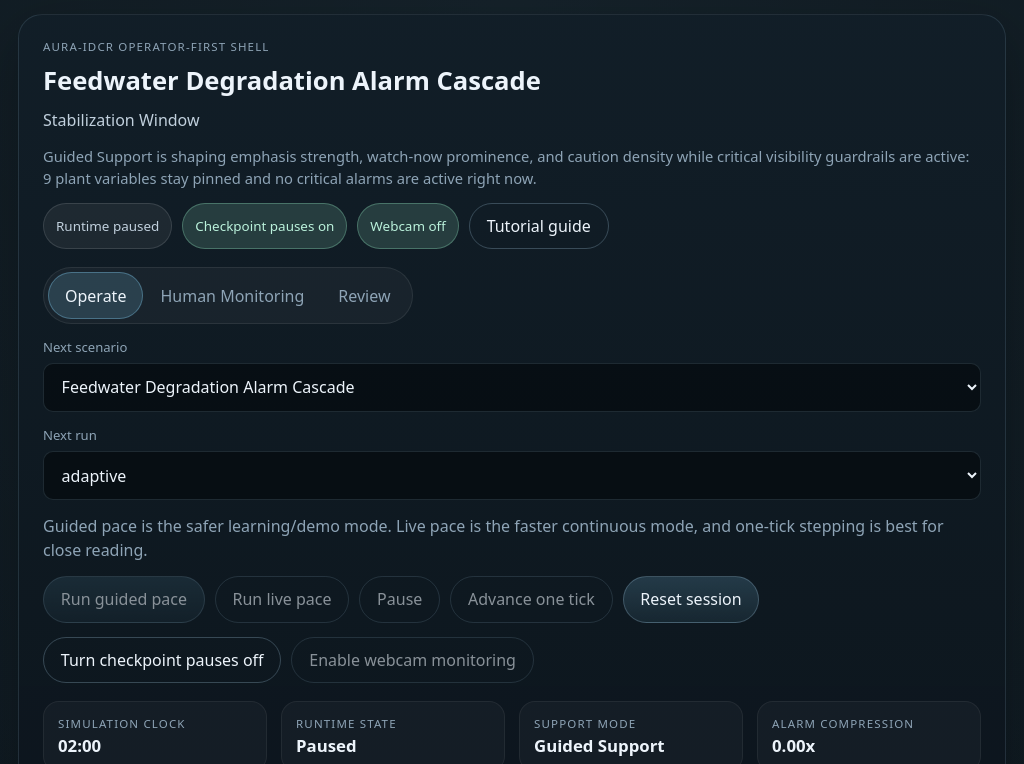
Test: AuraSessionStore › renders the completed-session review panel after a terminal outcome
Click the tab "Review" at (364, 296), box [321, 272, 408, 319]
(page scrolled)
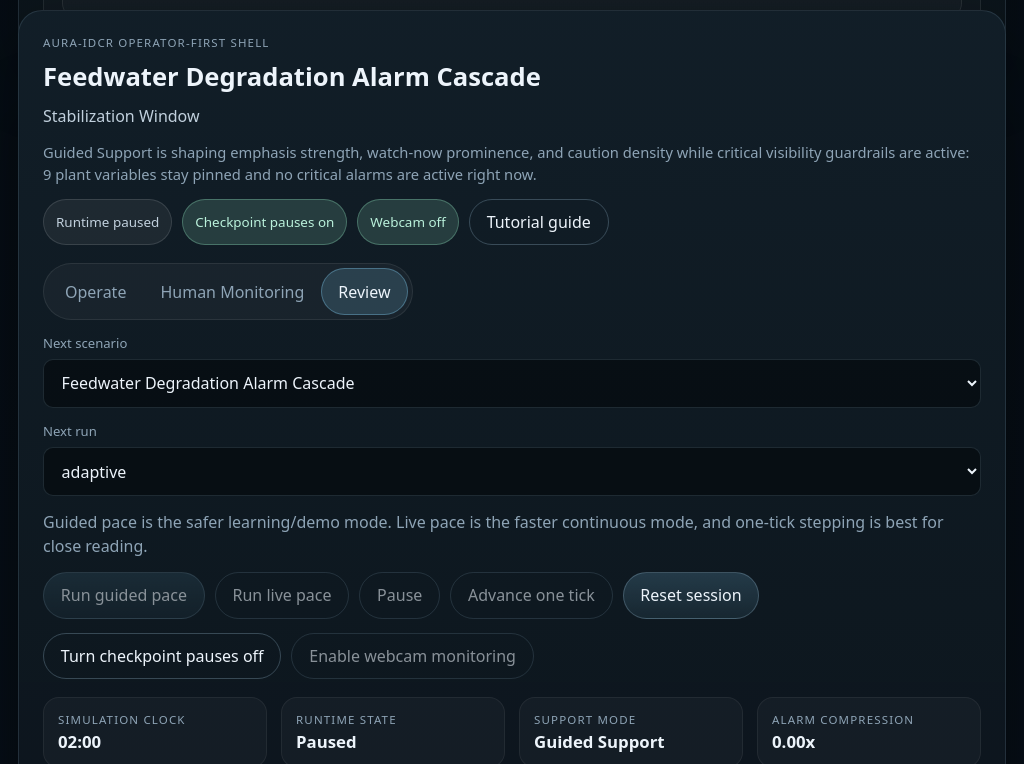
expect the heading "Completed run summary" is shown: met, box [62, 368, 295, 393]
